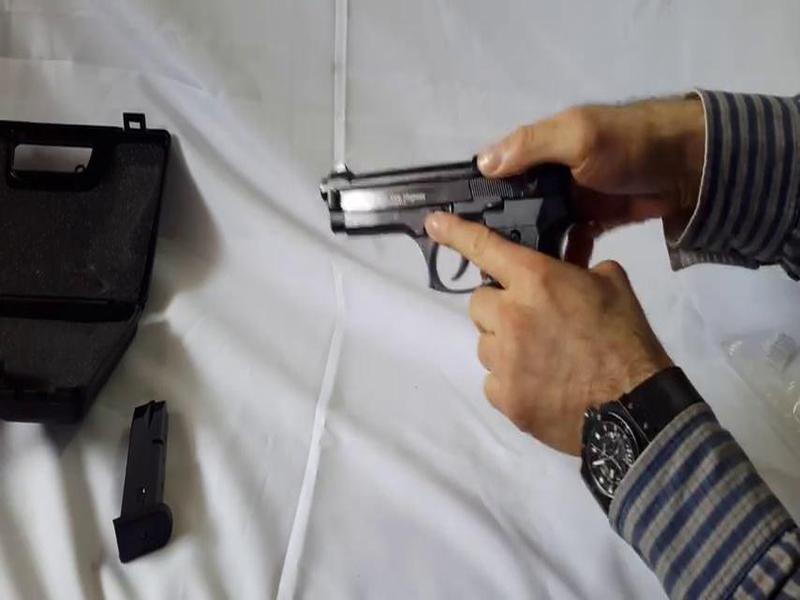Pistola: (289, 128, 663, 377)
